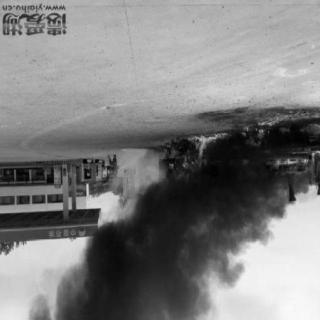other: (71, 160, 117, 190)
